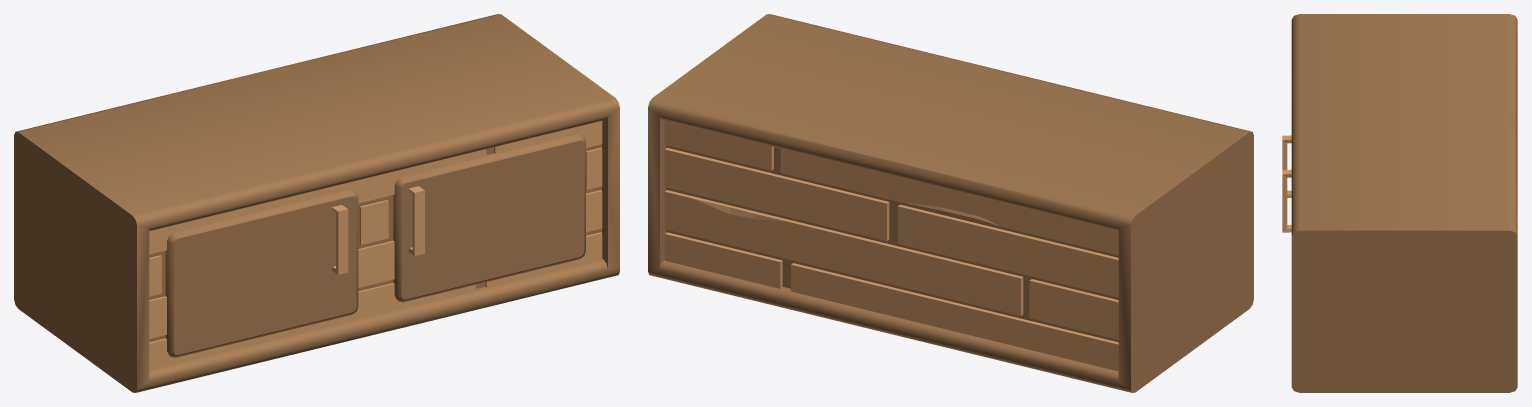
The model's file is quaternius-sushi-restaurant-environment-cabinet-doors.glb.
3 views of the same model, side by side, from view 1: azimuth 30°, elevation 25°; view 2: azimuth 150°, elevation 25°; view 3: azimuth 270°, elevation 25° (orthographic). The views are drawn at different scales.
Parts seen in each view (by area): view 1: Environment_Cabinet_Doors; view 2: Environment_Cabinet_Doors; view 3: Environment_Cabinet_Doors.
Boxes of the visible parts, left/top/right/bottom form: Environment_Cabinet_Doors: left=14, top=14, right=619, bottom=392; Environment_Cabinet_Doors: left=648, top=14, right=1253, bottom=392; Environment_Cabinet_Doors: left=1282, top=14, right=1517, bottom=392.
Bounding box in the file's own units: 4 × 1.4 × 1.84.
1 material, 1 textured.
